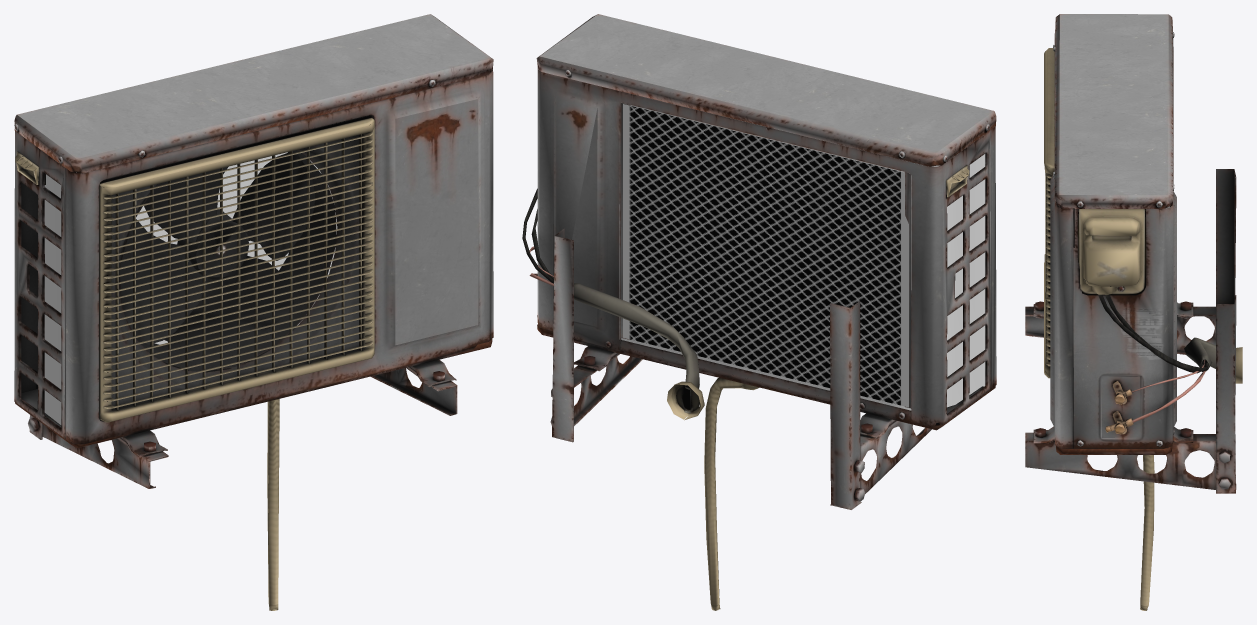
File: aircon.glb
The picture shows the model from 3 angles, left to right: view 1: azimuth 30°, elevation 25°; view 2: azimuth 150°, elevation 25°; view 3: azimuth 270°, elevation 25°; orthographic projection. The views are drawn at different scales.
Visible parts, largest first — view 1: aircon; view 2: aircon; view 3: aircon.
Boxes of the visible parts, x1,y1,x2,y2 form: aircon: (14, 14, 493, 610); aircon: (522, 14, 996, 610); aircon: (1025, 14, 1242, 610).
Bounding box in the file's own units: 0.8 × 0.928 × 0.3742.
2 materials, 2 textured.
